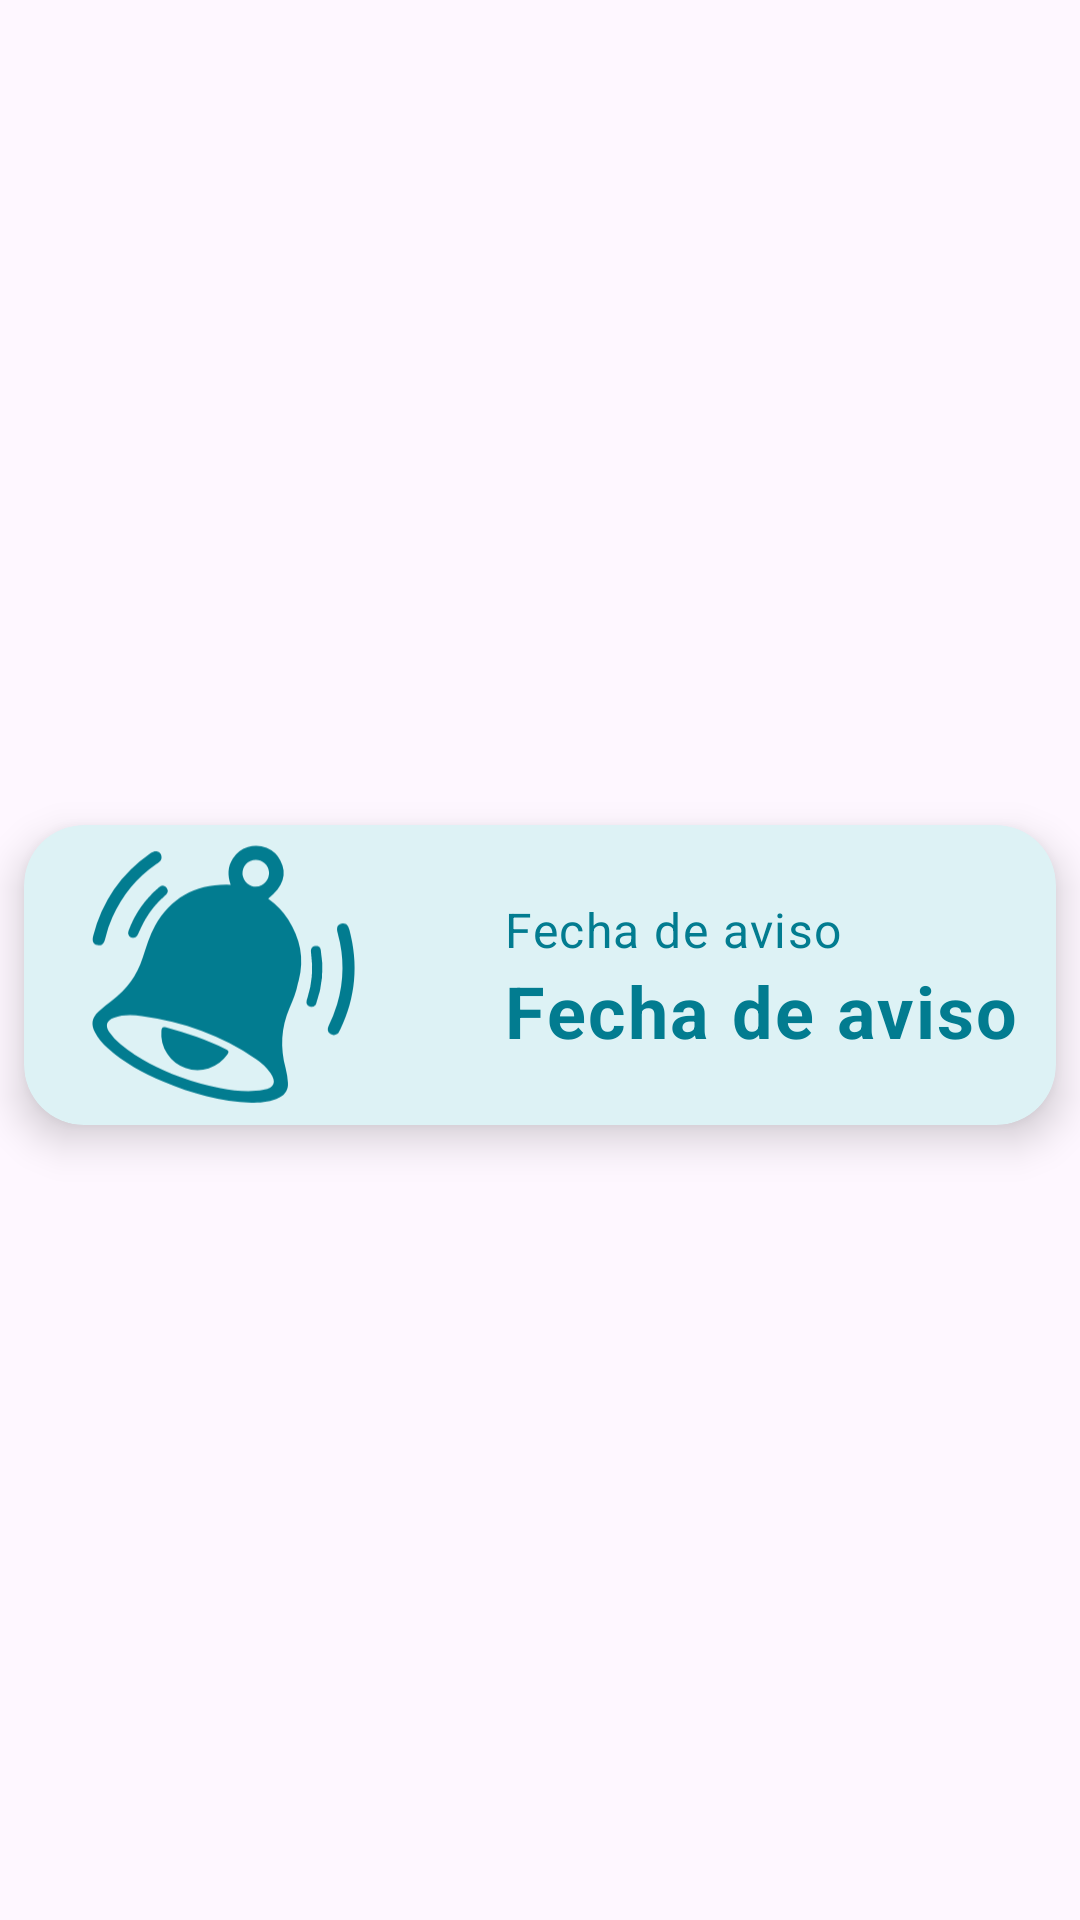

Screen size 1080w x 1920h. Icon name, then its box in pixels as [x1,y1,x2,y2]:
alert: [92,845,355,1103]
